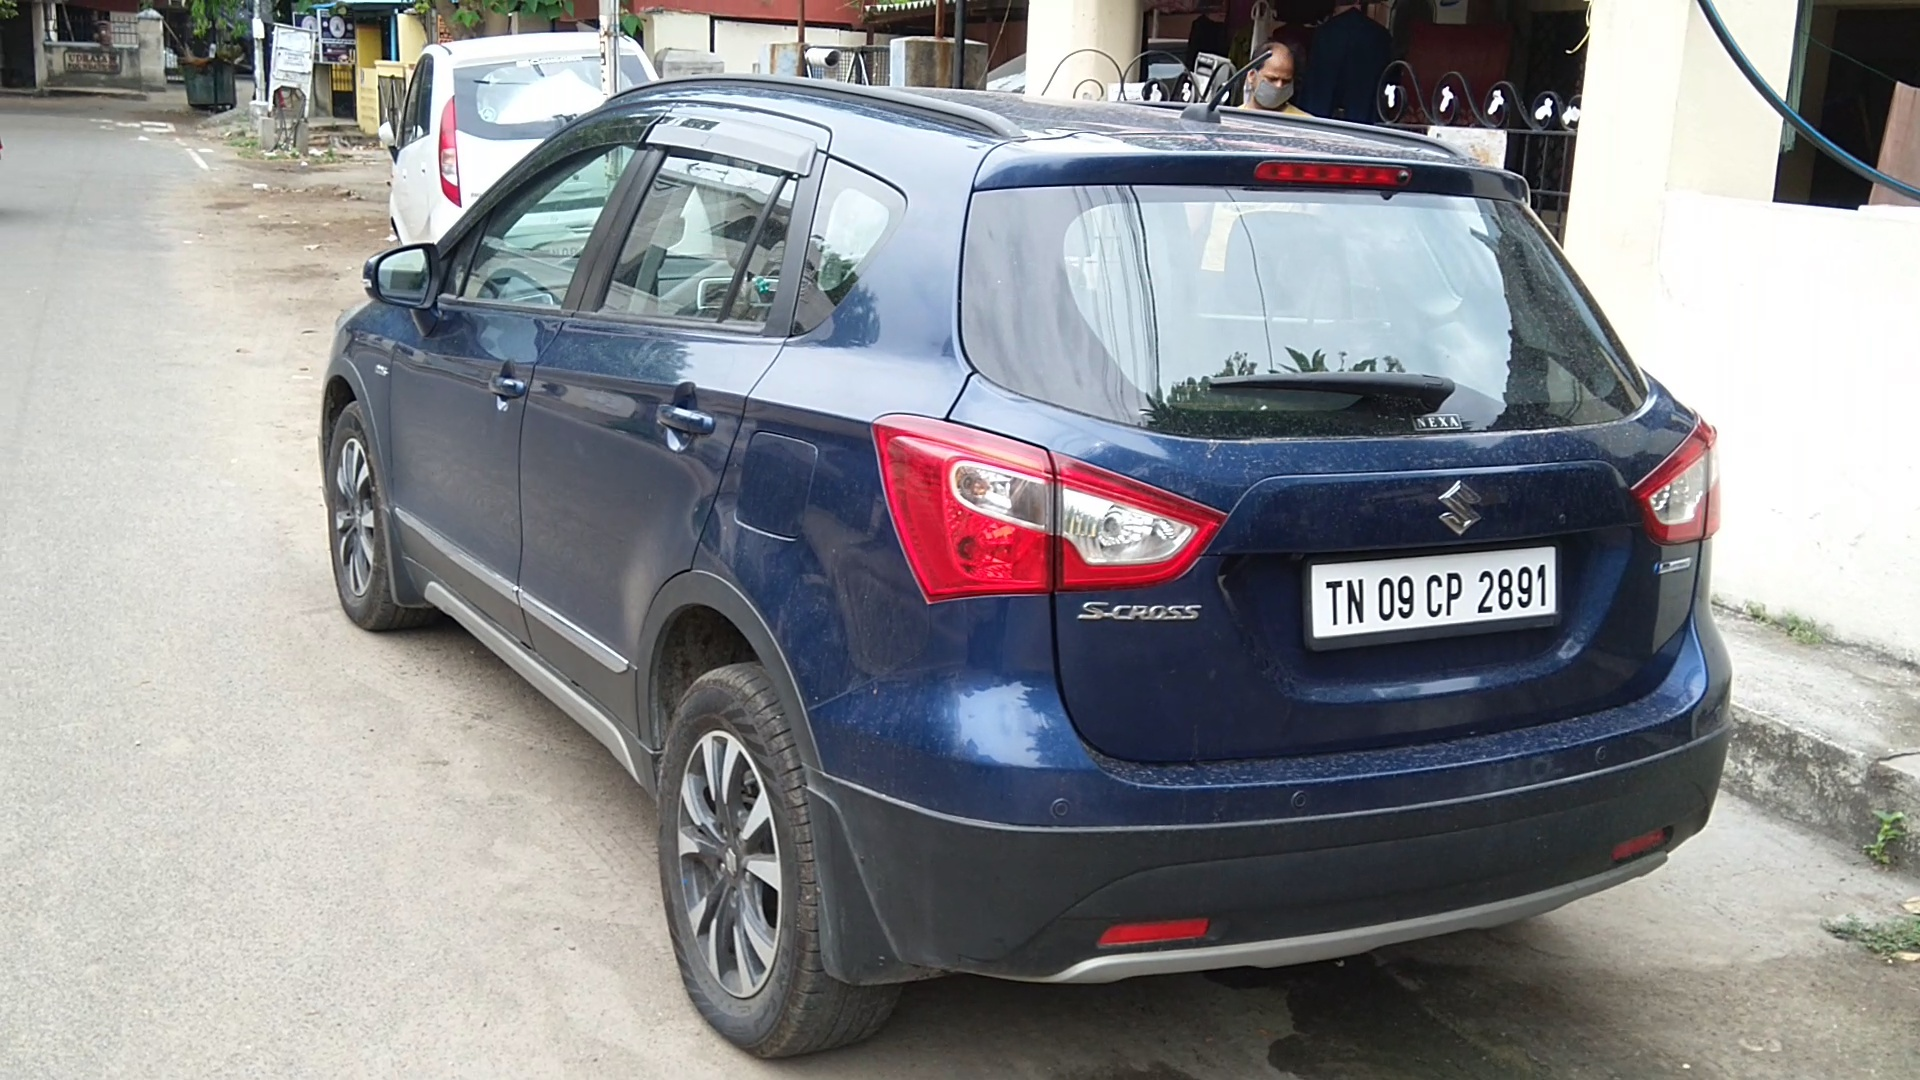alloy_wheel: (676, 649, 847, 1063), (323, 407, 400, 628)
rear_camera: (1385, 158, 1423, 202)
